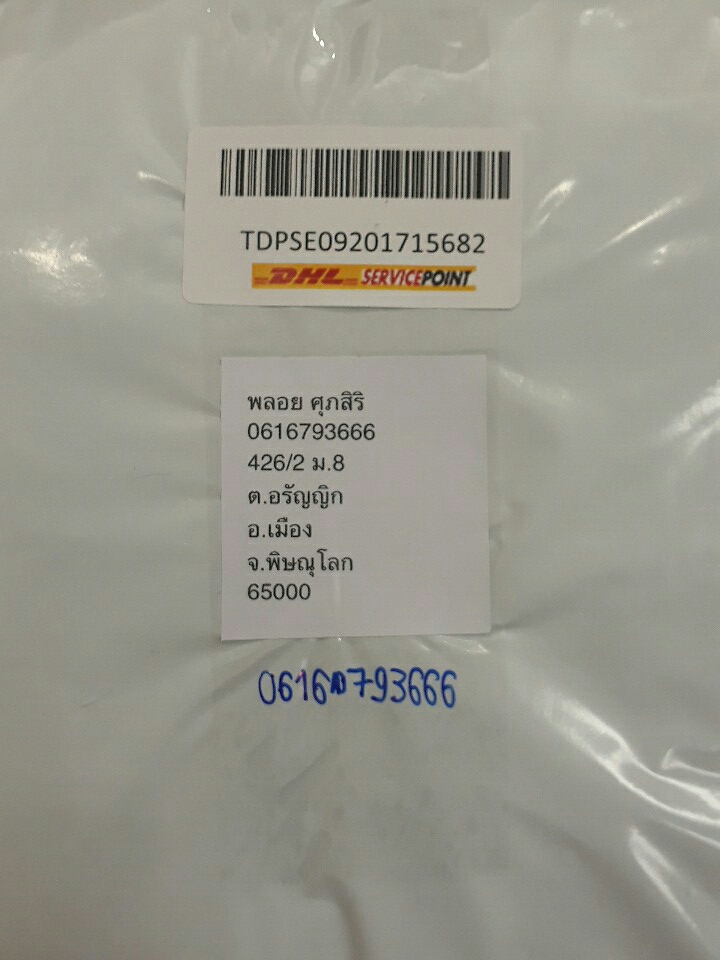ba: (177, 116, 548, 330)
txt: (244, 388, 386, 613)
